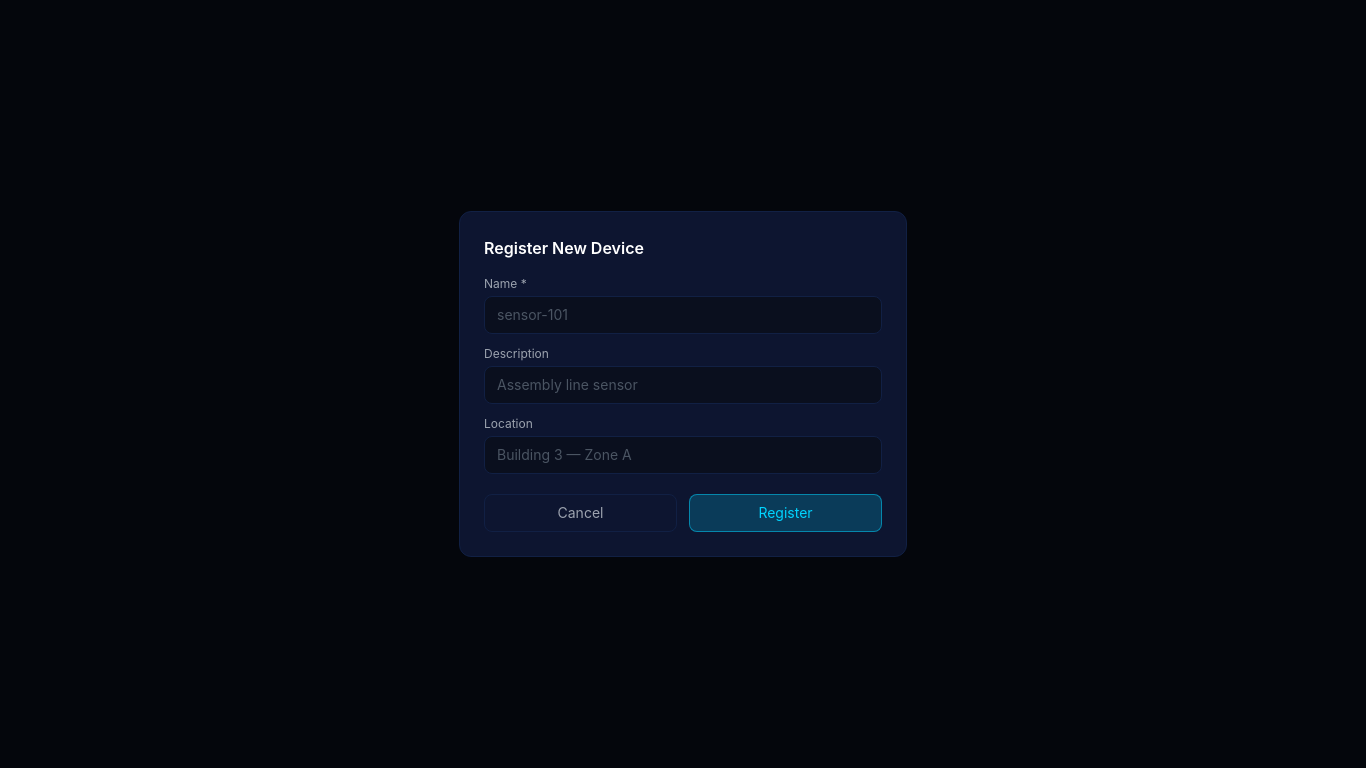
Test: Register button shows Registering… while loading
The width and height of the screenshot is (1366, 768).
Step 1. Type "sensor-x" into the field with placeholder "sensor-101" → (683,315), box x1=484 y1=296 x2=882 y2=334
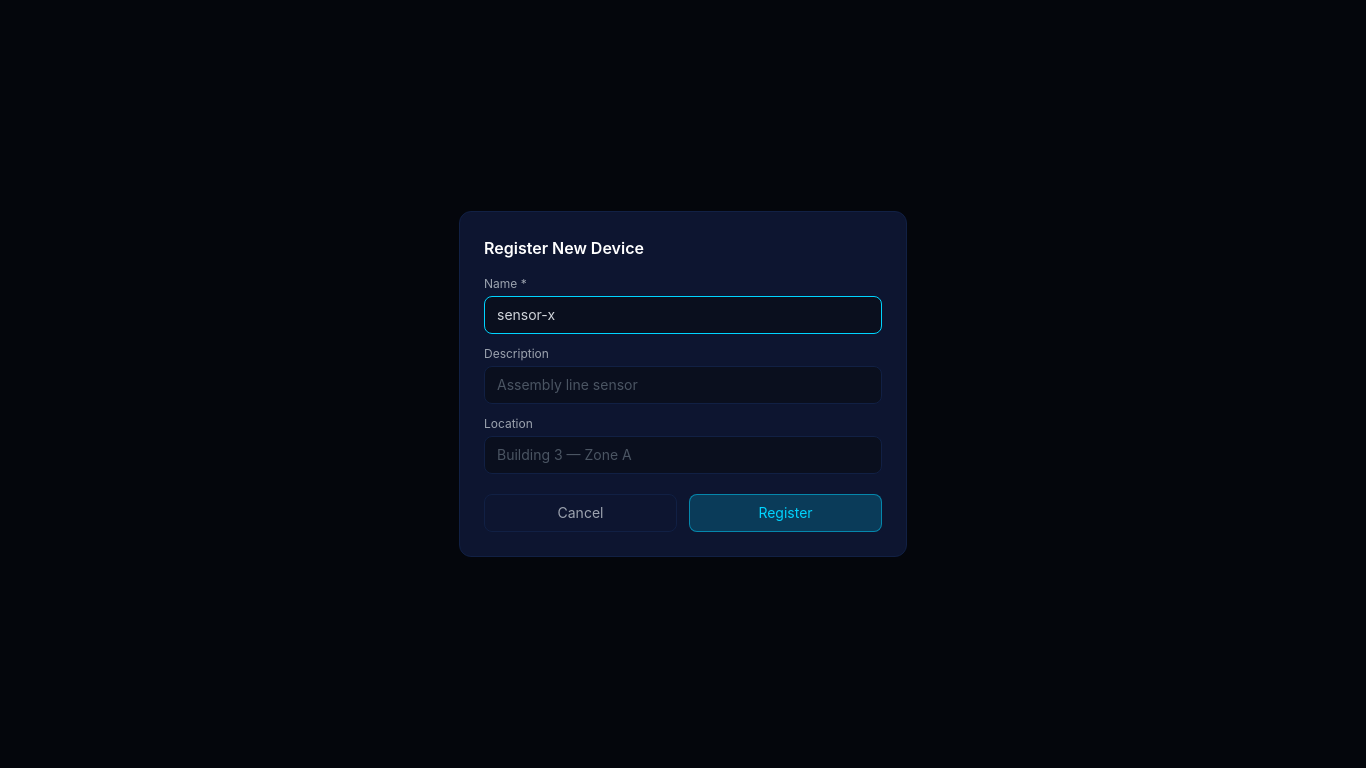
Step 2. Click the button "Register" → (786,513), box x1=689 y1=494 x2=882 y2=532
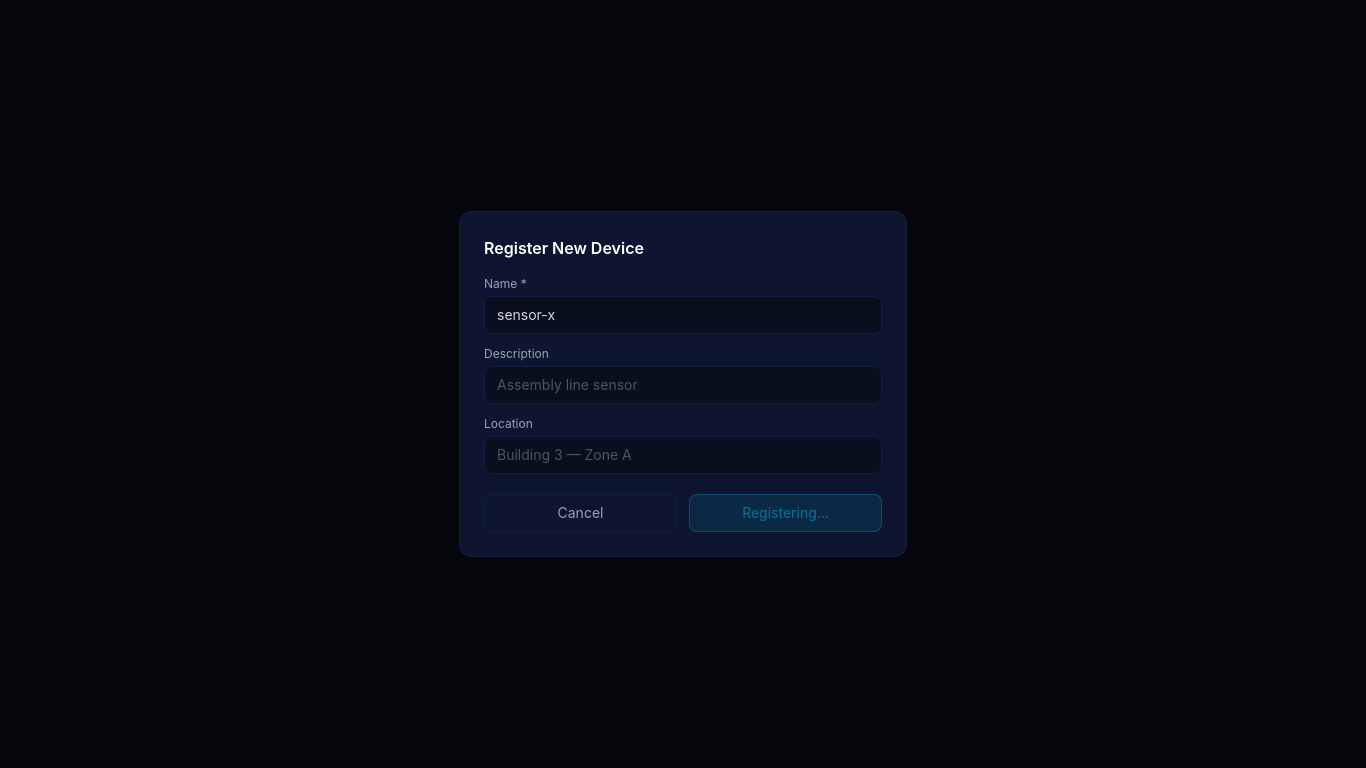
Result: the button "Registering…" is disabled at x1=689 y1=494 x2=882 y2=532
